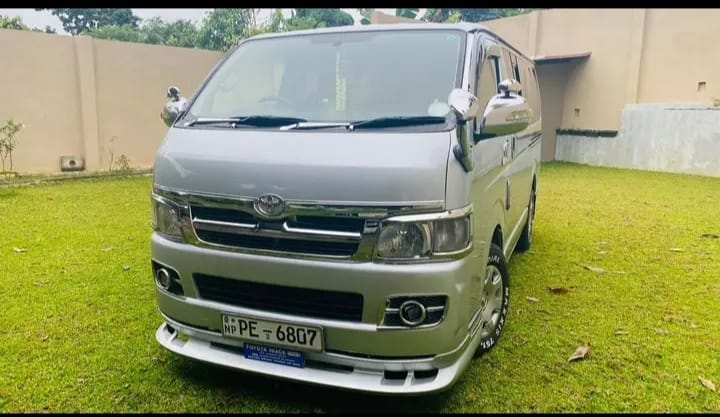number_plate: (220, 314, 325, 351)
